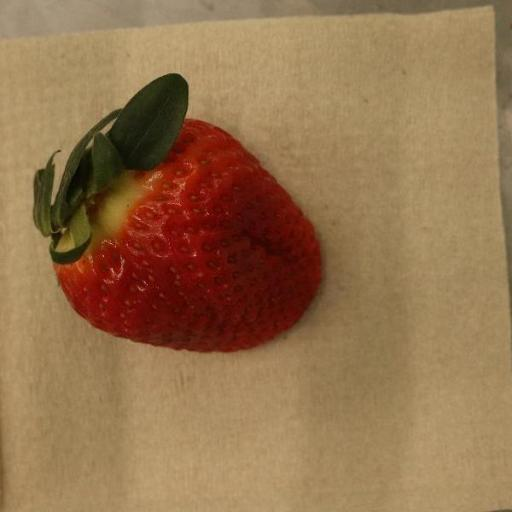Strawberry: (33, 73, 323, 353)
